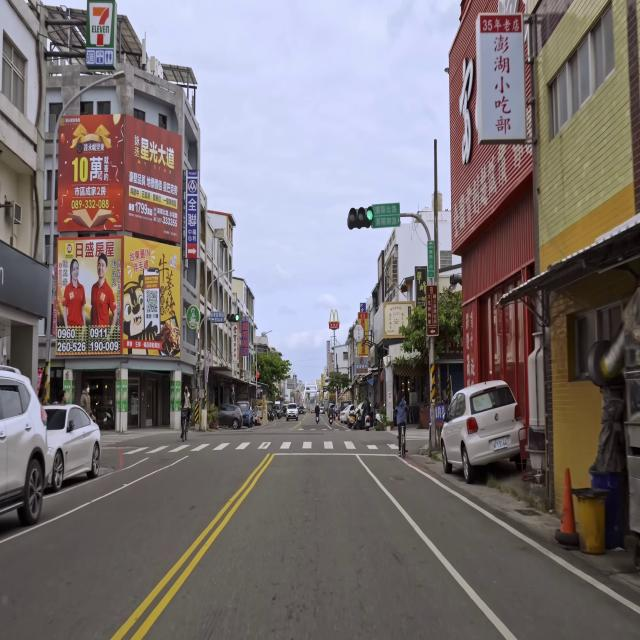green light: (346, 207, 374, 228), (227, 314, 239, 322)
